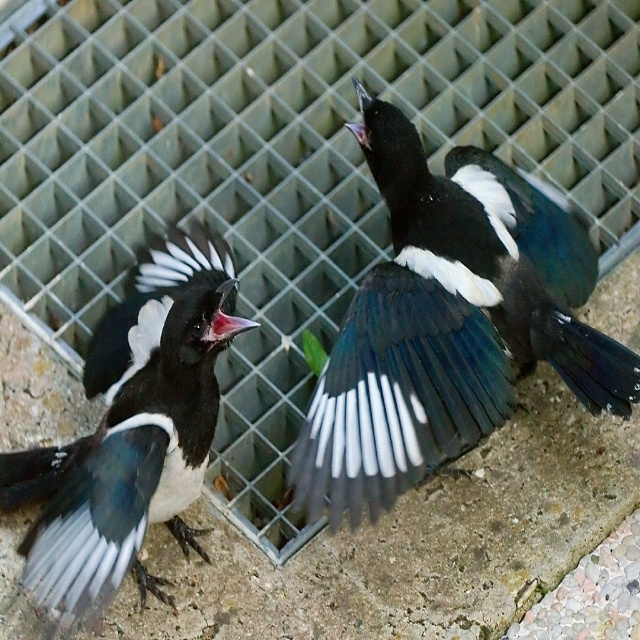Magpie: (286, 75, 640, 538), (0, 226, 264, 639)
